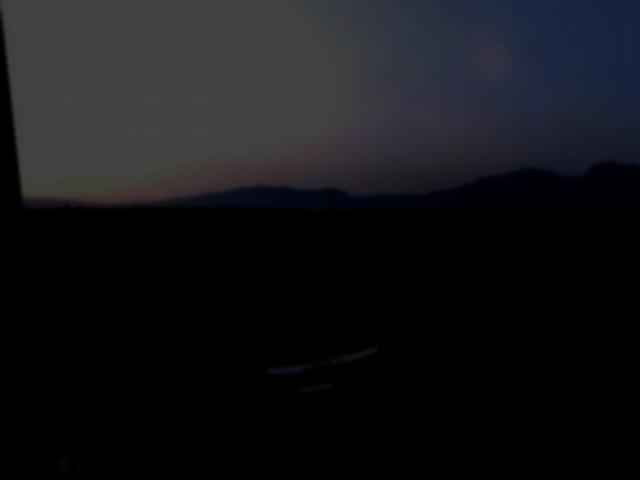uav: (246, 338, 381, 402)
